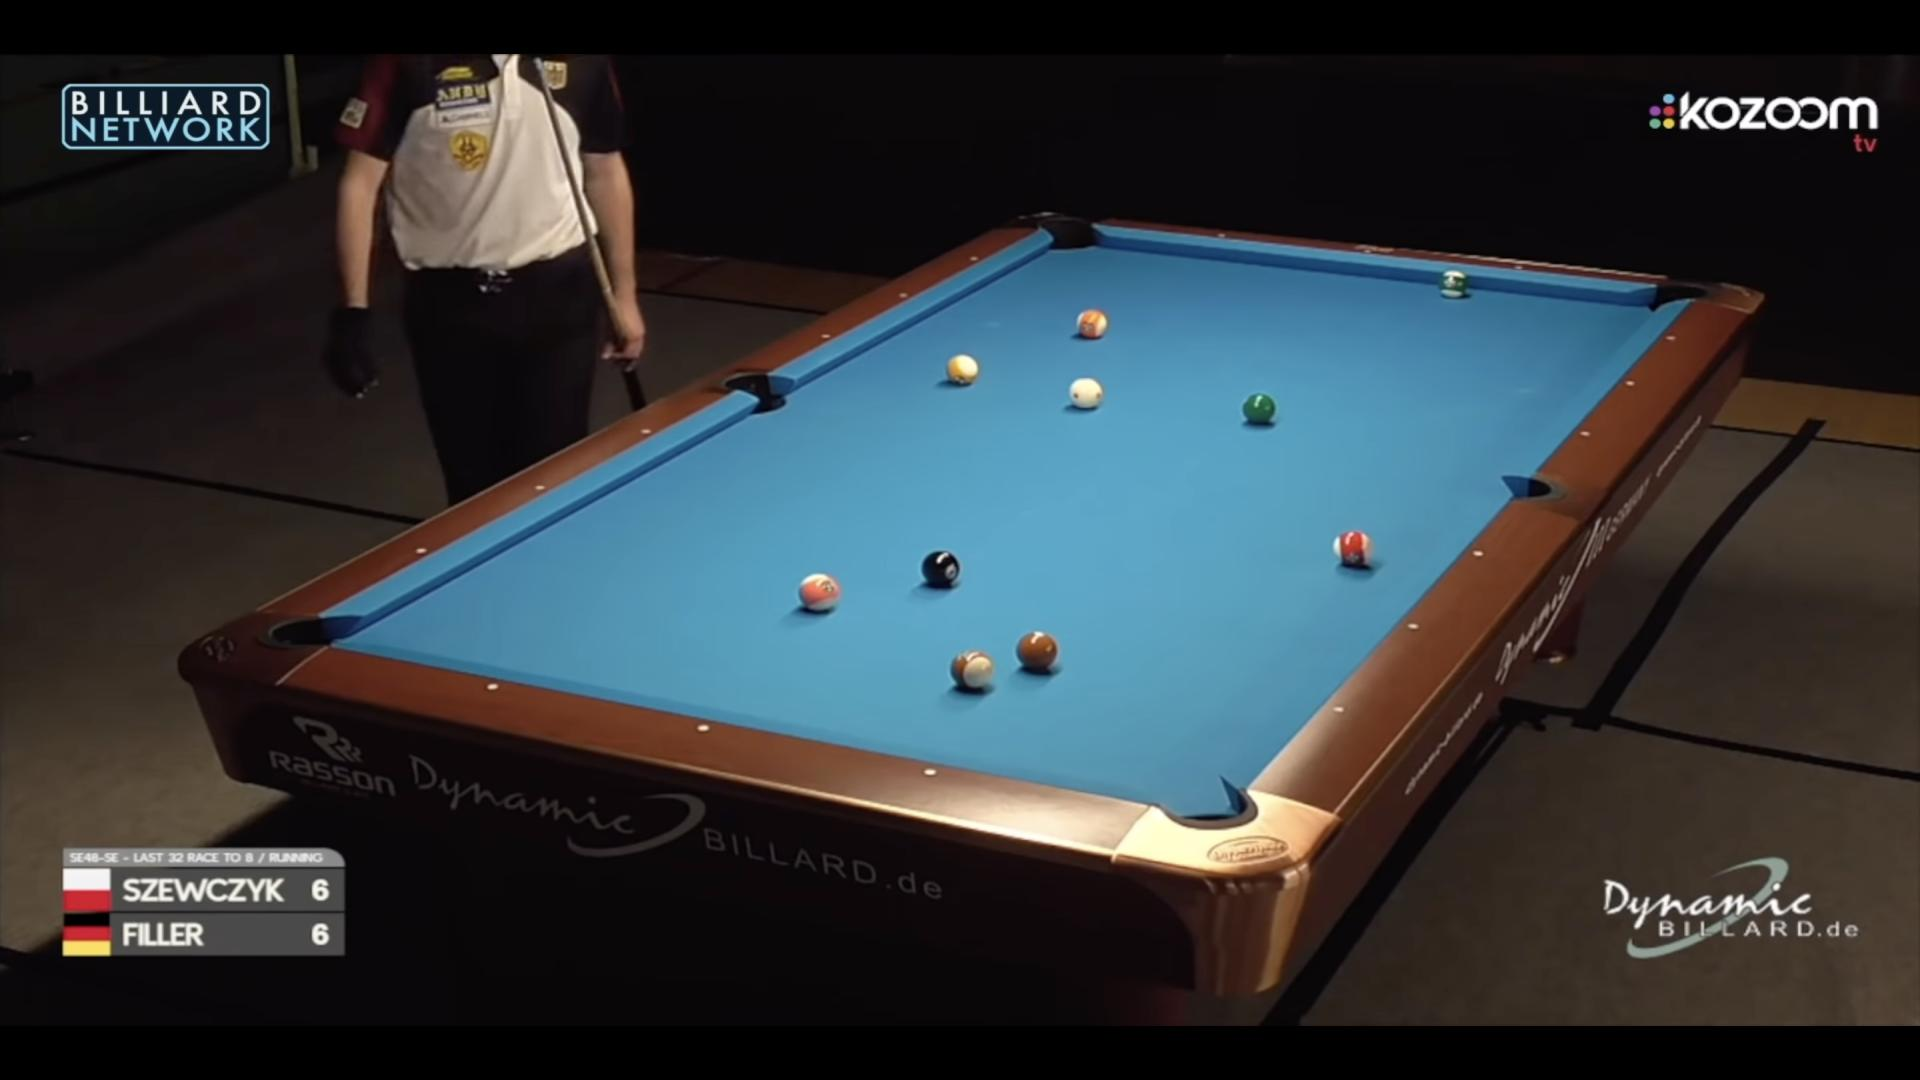Black: (922, 551, 960, 585)
Cue: (1069, 377, 1104, 409)
Dot: (1329, 702, 1346, 717), (1406, 620, 1423, 636), (1470, 546, 1487, 562), (485, 680, 500, 695), (696, 721, 711, 736), (922, 766, 936, 779), (534, 481, 549, 495), (640, 426, 654, 439), (414, 545, 427, 558), (1580, 429, 1593, 440), (1623, 377, 1636, 389), (1664, 332, 1677, 344), (820, 331, 832, 343), (968, 253, 981, 264), (898, 290, 910, 301), (1514, 262, 1524, 272), (1362, 247, 1371, 255), (1217, 231, 1225, 239)
Solid: (1015, 632, 1058, 670), (1242, 393, 1275, 422)
Striped: (949, 650, 993, 690), (798, 572, 841, 611), (1332, 530, 1373, 567), (945, 355, 978, 385), (1076, 309, 1109, 338), (1439, 269, 1469, 298)
